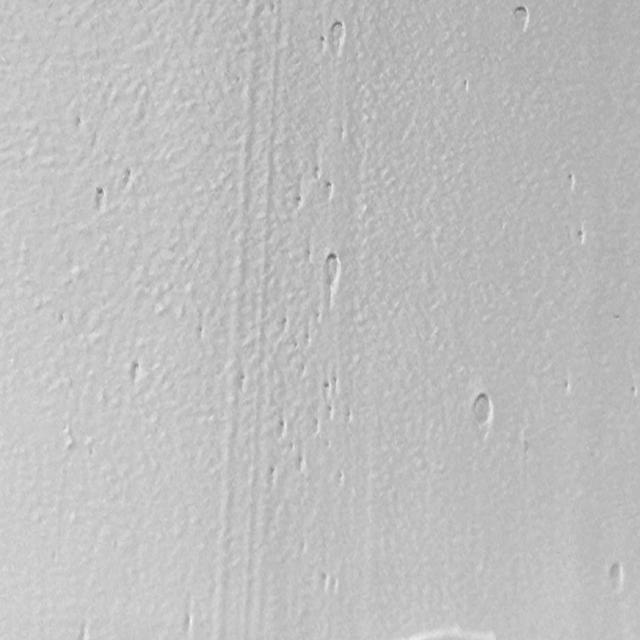pin holes: (468, 389, 496, 434), (320, 251, 342, 293), (325, 19, 349, 52), (604, 561, 626, 593), (509, 3, 532, 31), (90, 185, 110, 212), (127, 360, 145, 384), (316, 572, 334, 594), (559, 377, 577, 398), (266, 461, 280, 487), (273, 417, 289, 439), (574, 226, 590, 248), (122, 164, 136, 186), (566, 172, 579, 192), (73, 115, 87, 132), (324, 181, 336, 200), (320, 378, 332, 396), (294, 193, 306, 210), (461, 79, 473, 96), (311, 165, 322, 181), (325, 404, 335, 421), (79, 619, 87, 640), (184, 614, 193, 632), (628, 384, 638, 400), (303, 332, 311, 348), (240, 375, 247, 393), (298, 455, 305, 473), (283, 317, 289, 331), (347, 411, 352, 426), (524, 440, 529, 454), (334, 375, 338, 390), (314, 420, 318, 434), (301, 363, 306, 374), (339, 470, 344, 481), (307, 247, 312, 258), (320, 38, 325, 48), (614, 314, 620, 322), (316, 311, 321, 320), (290, 443, 294, 453), (199, 326, 203, 334)
